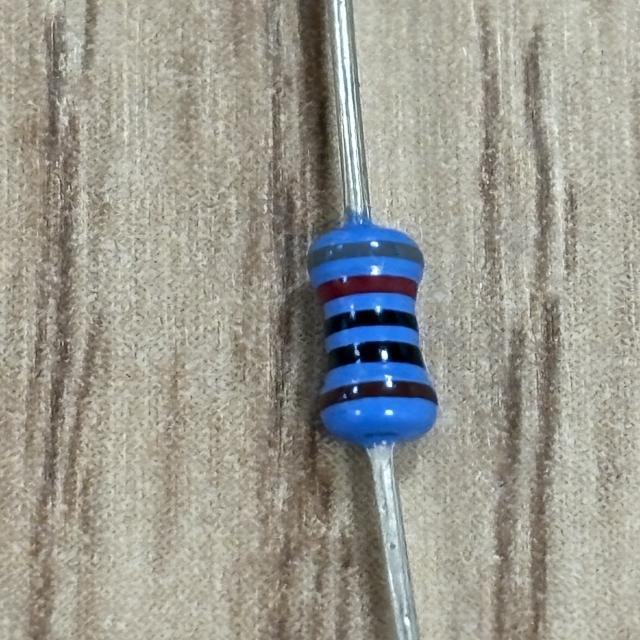resistor: (309, 227, 442, 430)
